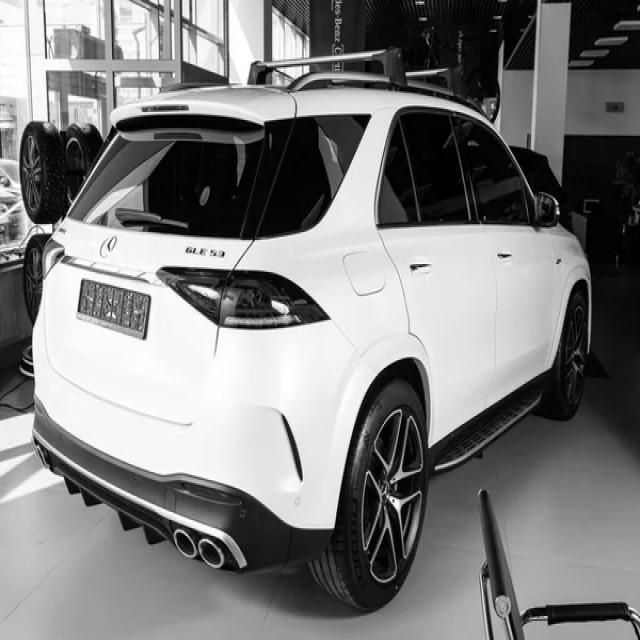Car: (31, 48, 593, 612)
